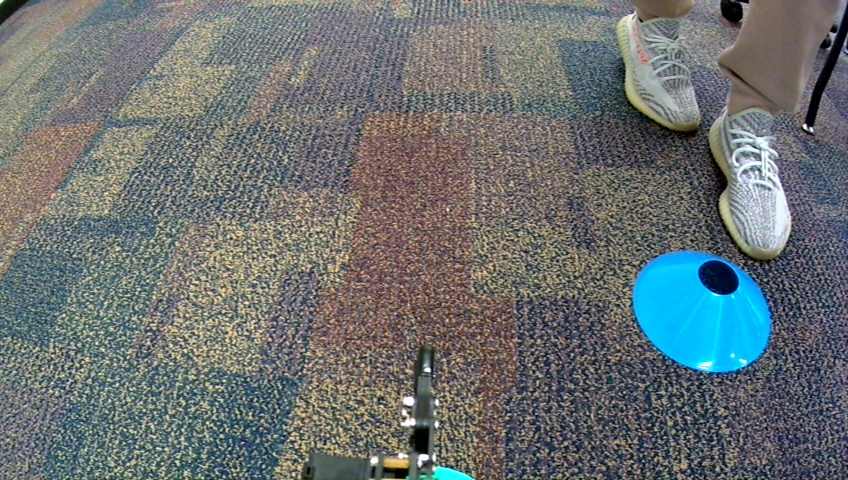cone: (634, 247, 773, 374)
